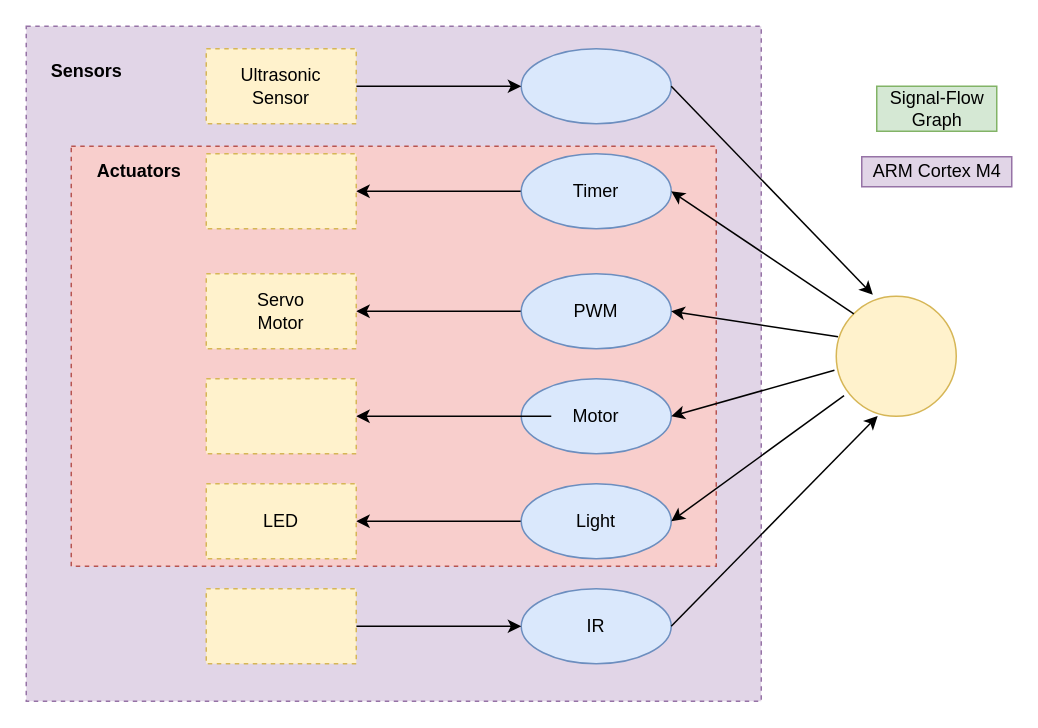
This 1038x728 diagram has some shape labels left out. The shapes that lost their labels are listed below. From the top down, each one's box as (x1, y1, x2, y2) in pixels, then its label:
(520, 47, 671, 124): Ultrasonic
(205, 152, 356, 229): GPTM
(835, 295, 956, 416): MCU
(205, 377, 356, 454): DC Motors
(205, 587, 356, 664): IR Sensor
